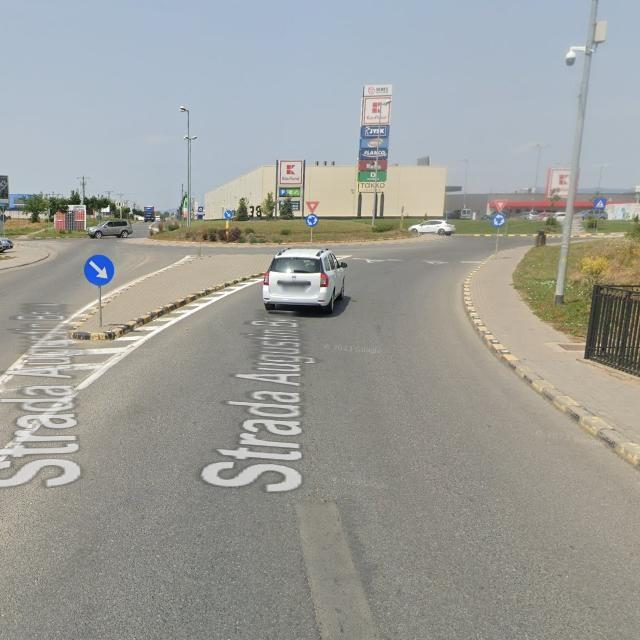prio_give_way: (490, 201, 507, 213), (306, 201, 320, 213)
